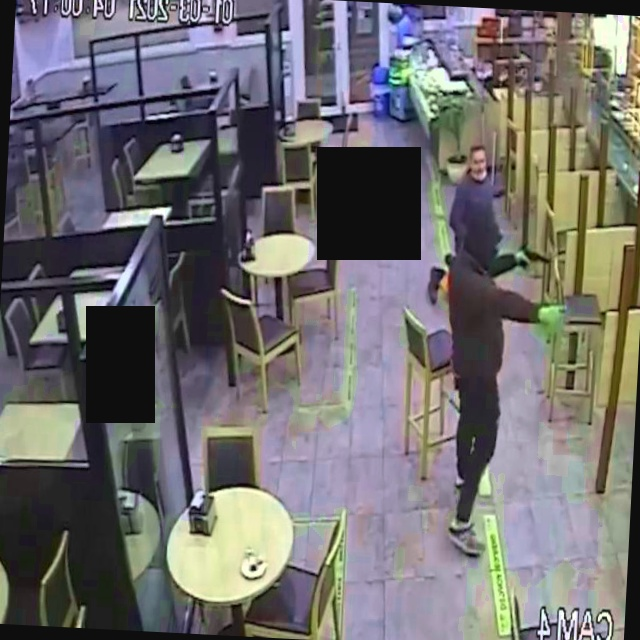gun: (507, 230, 560, 281)
